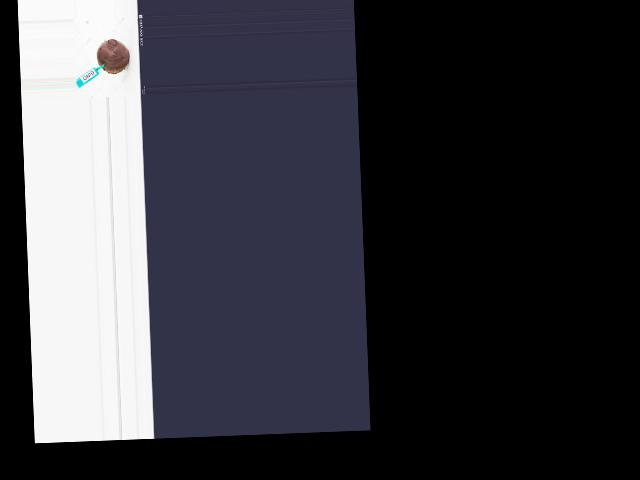beet: (96, 38, 130, 74)
